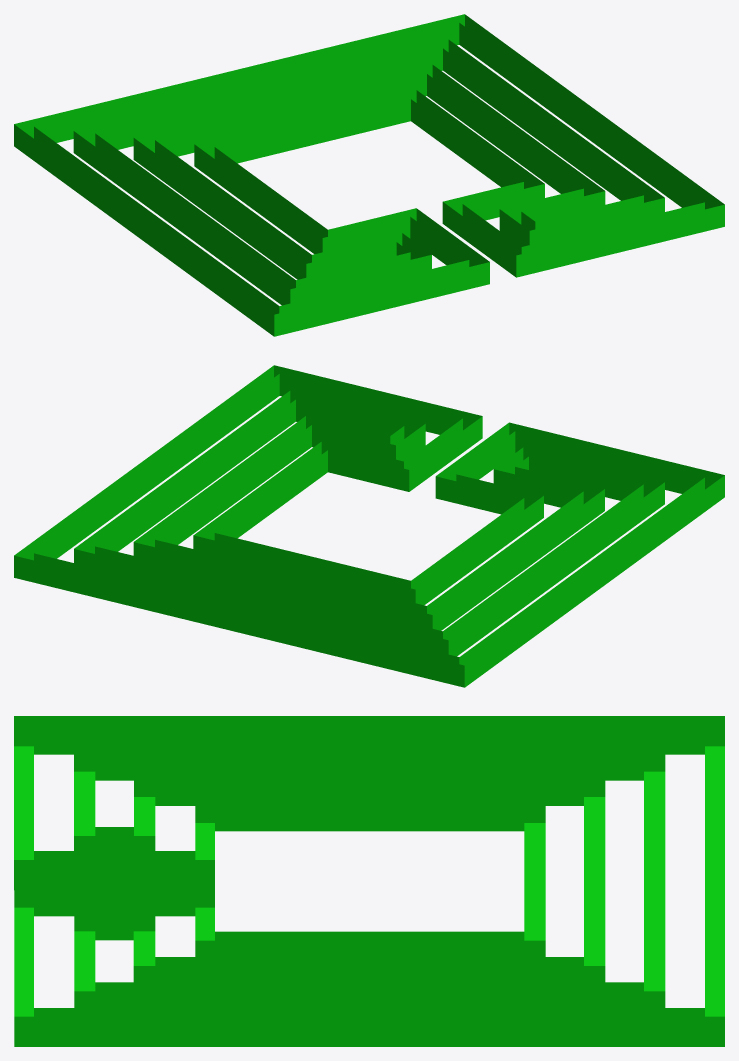
File: O-Light.fbx
The picture shows the model from 3 angles, top to bottom: view 1: azimuth 30°, elevation 25°; view 2: azimuth 150°, elevation 25°; view 3: azimuth 270°, elevation 25°; orthographic projection. The views are drawn at different scales.
Parts seen in each view (by area): view 1: Curve.001; view 2: Curve.001; view 3: Curve.001.
Part boxes in pixels (<box>): Curve.001: <box>14,14,724,336</box>; Curve.001: <box>14,365,724,687</box>; Curve.001: <box>14,716,724,1046</box>.
Size of the model in its own units: 107 by 5.05 by 107.
